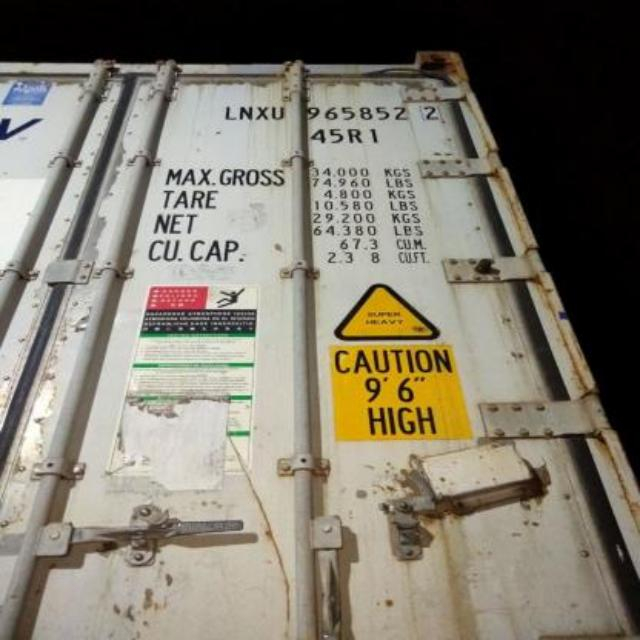2: (417, 101, 443, 121), (390, 98, 408, 125)
5: (340, 102, 356, 126), (375, 102, 391, 124)
6: (324, 100, 338, 124)
8: (358, 100, 374, 124)
9: (307, 102, 319, 125)
L: (222, 100, 238, 124)
N: (234, 98, 256, 124)
U: (270, 100, 286, 124)
X: (254, 101, 270, 125)
